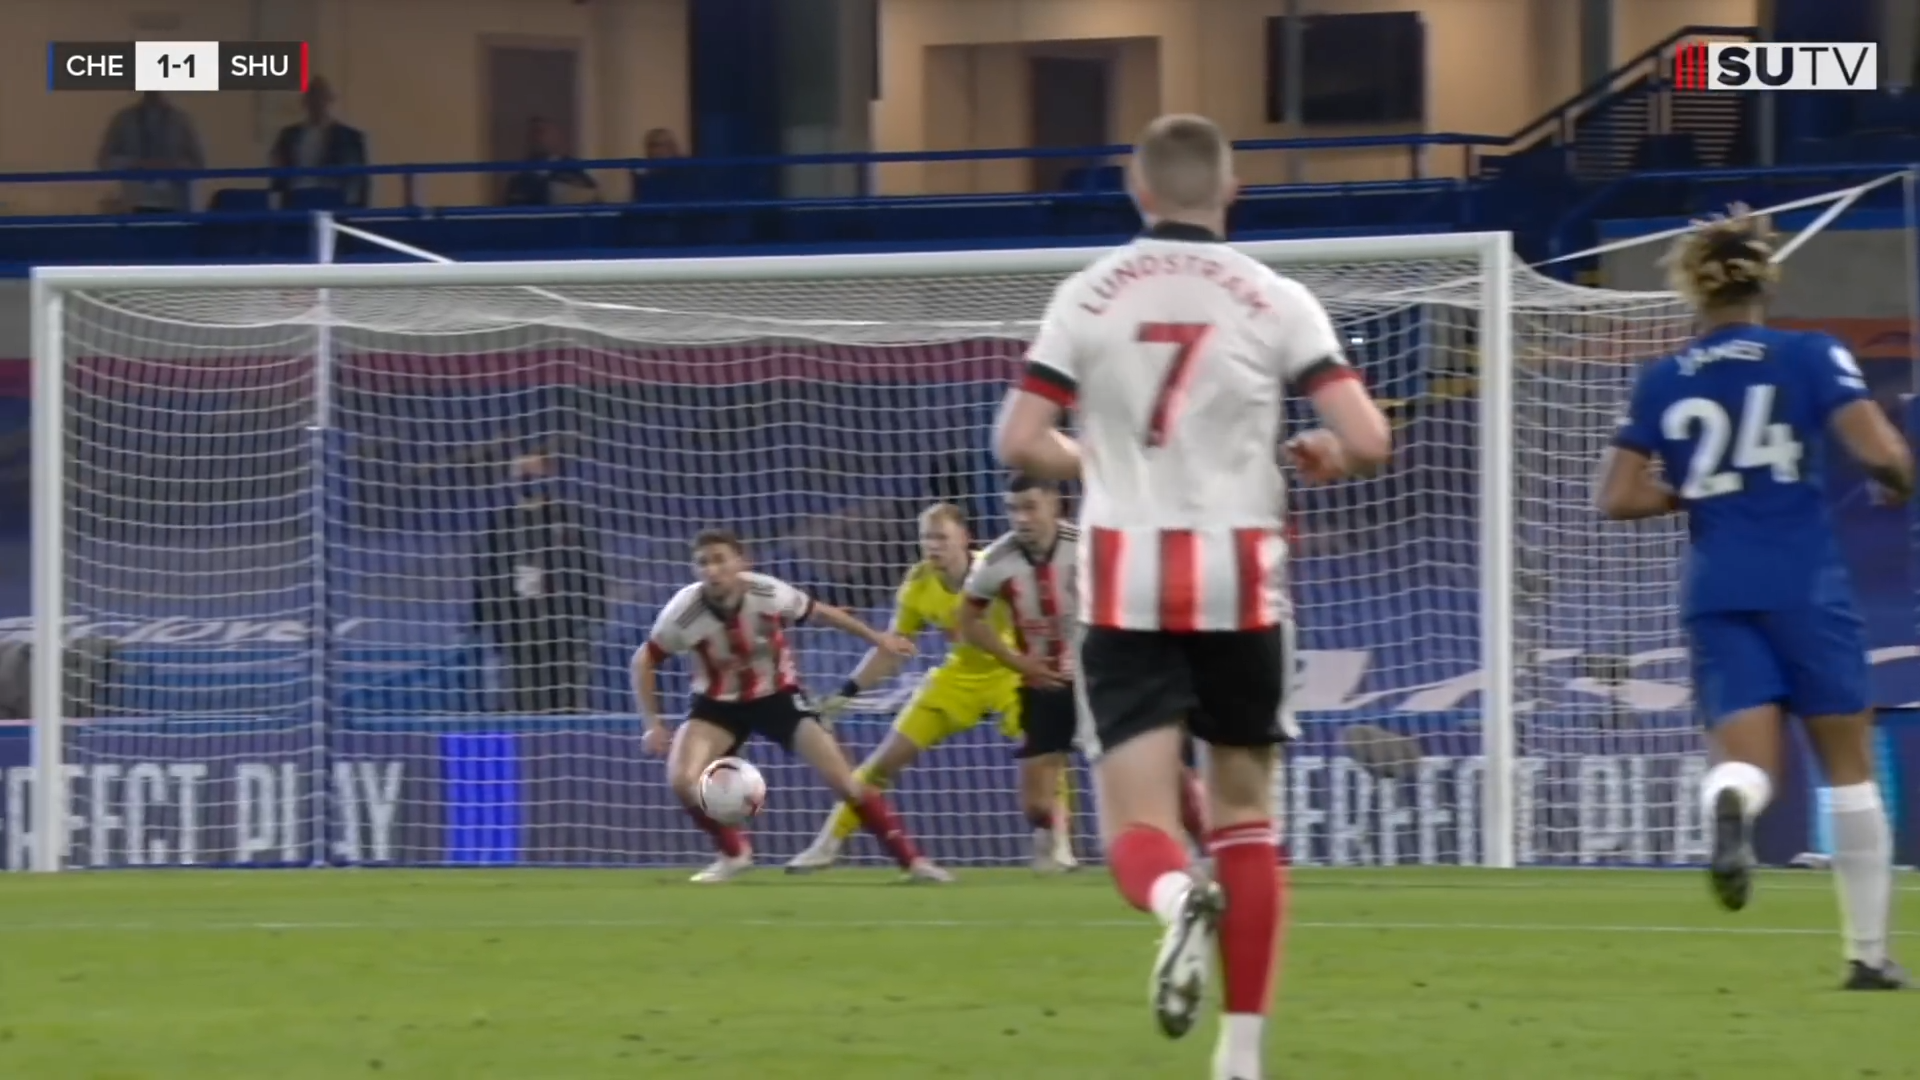Player: (978, 82, 1379, 1078), (1580, 170, 1920, 1014)
